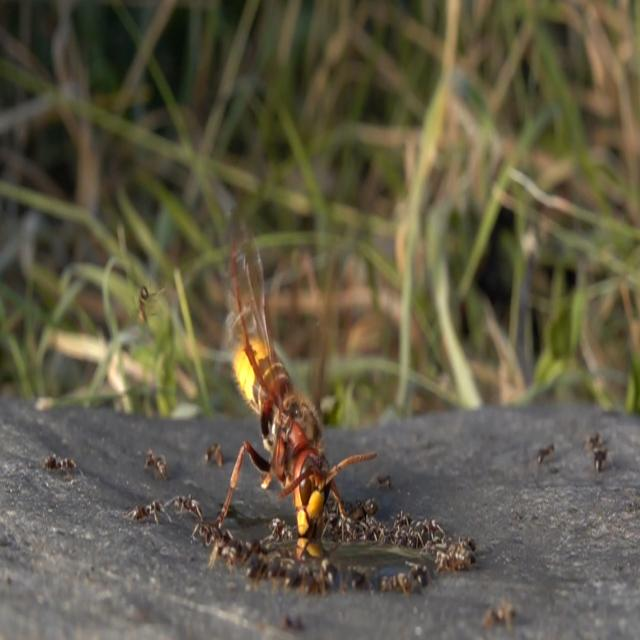Hornets: (196, 225, 380, 552)
